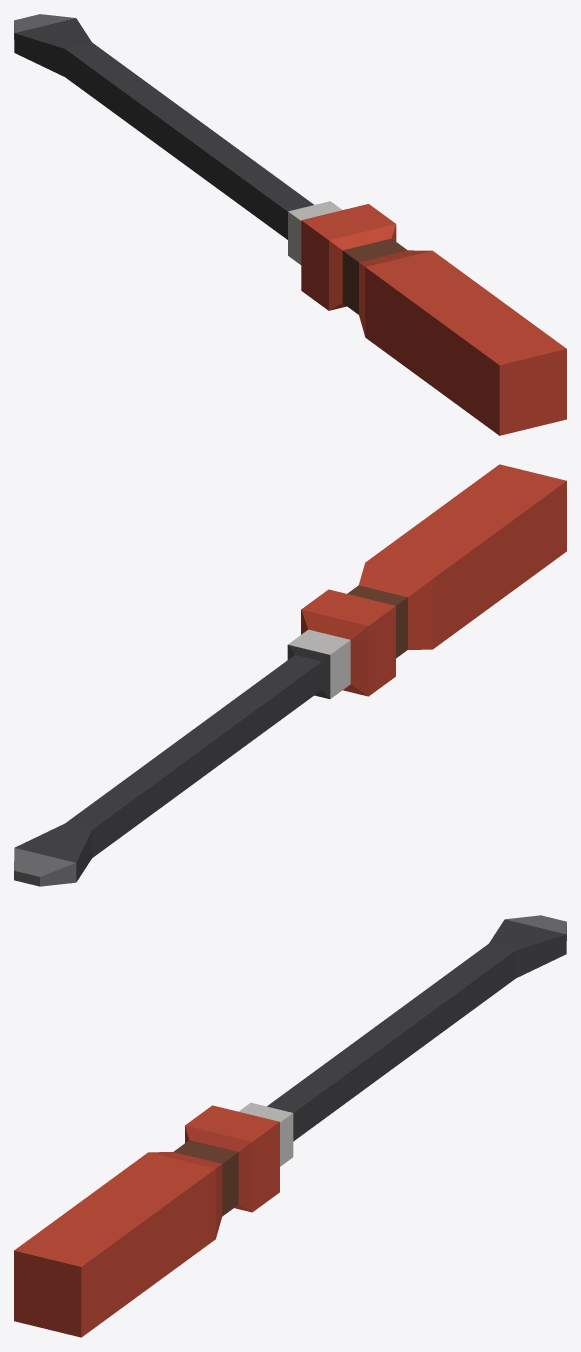
Rendered from SM_Item_Screwdriver_02.fbx.
3 renders of one model, top to bottom at view 1: azimuth 30°, elevation 25°; view 2: azimuth 150°, elevation 25°; view 3: azimuth 330°, elevation 25°, orthographic.
Visible parts, largest first — view 1: SM_Item_Screwdriver_02; view 2: SM_Item_Screwdriver_02; view 3: SM_Item_Screwdriver_02.
Part boxes in pixels (<box>): SM_Item_Screwdriver_02: <box>14,14,566,435</box>; SM_Item_Screwdriver_02: <box>14,464,566,886</box>; SM_Item_Screwdriver_02: <box>14,915,566,1337</box>.
Size of the model in its own units: 3.43 by 3.43 by 44.62.
